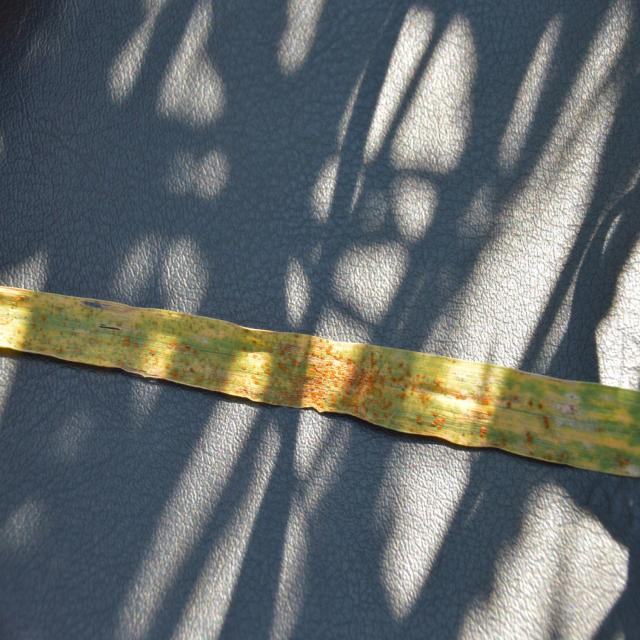wheat-septoria: (0, 285, 640, 479)
